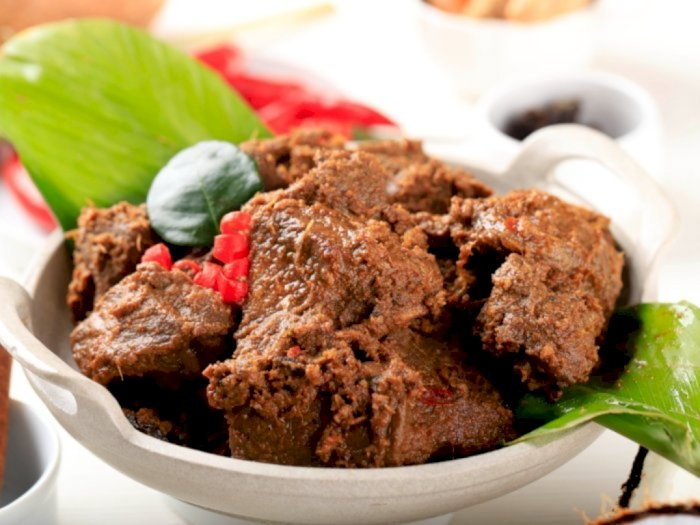rendang: (72, 173, 594, 453)
